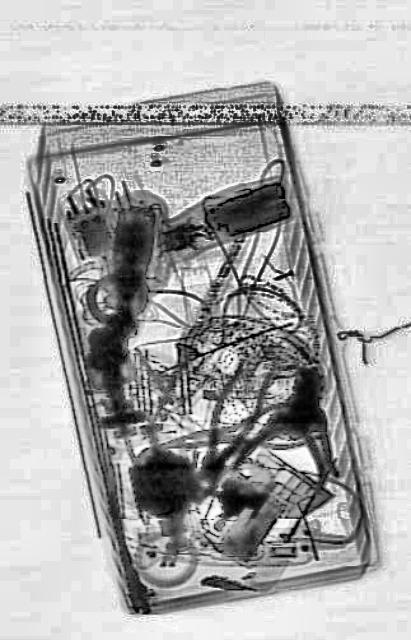Pliers: (184, 337, 278, 503), (153, 392, 324, 472)
